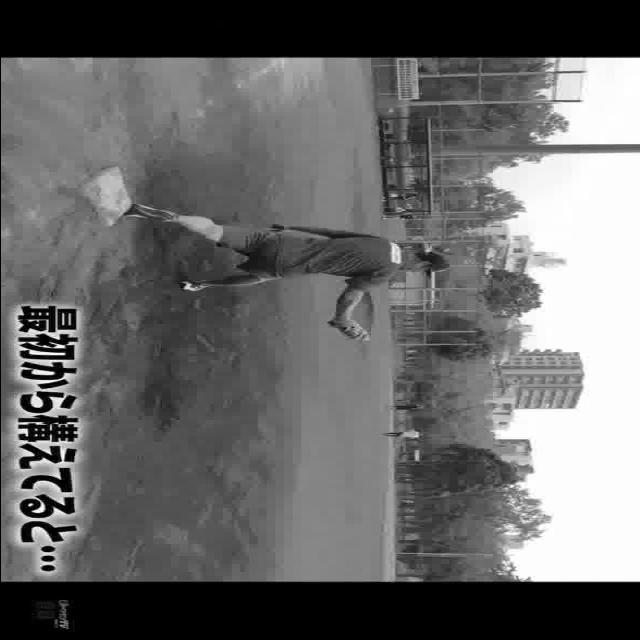base: (84, 167, 132, 227)
baseball_glove: (327, 319, 377, 342)
shoe: (116, 205, 182, 223), (175, 277, 209, 297)
